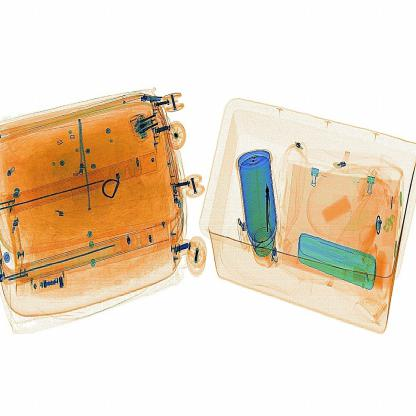knife: (260, 178, 278, 236)
